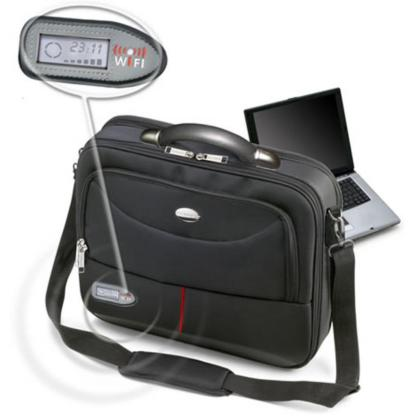board: (243, 87, 402, 259)
